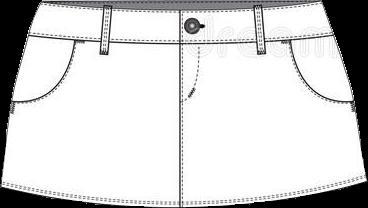Hemline: (0, 179, 366, 207)
Waistline: (27, 33, 333, 45), (41, 0, 320, 12)
